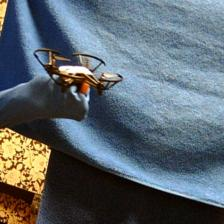drone: (33, 44, 127, 97)
